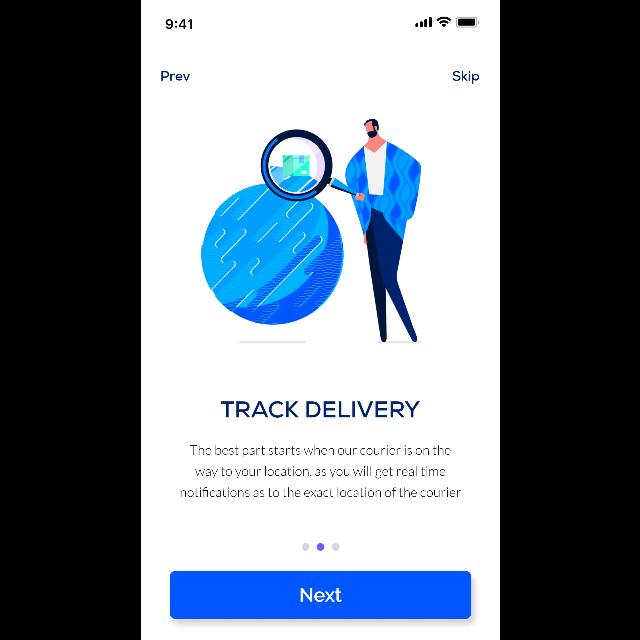image: (200, 119, 422, 344)
pageindicator: (301, 543, 339, 551)
text: (180, 445, 460, 497), (220, 402, 420, 418), (453, 72, 479, 84), (160, 71, 190, 81)
textbutton: (169, 571, 471, 619)
uppertaskbar: (165, 16, 480, 29)
